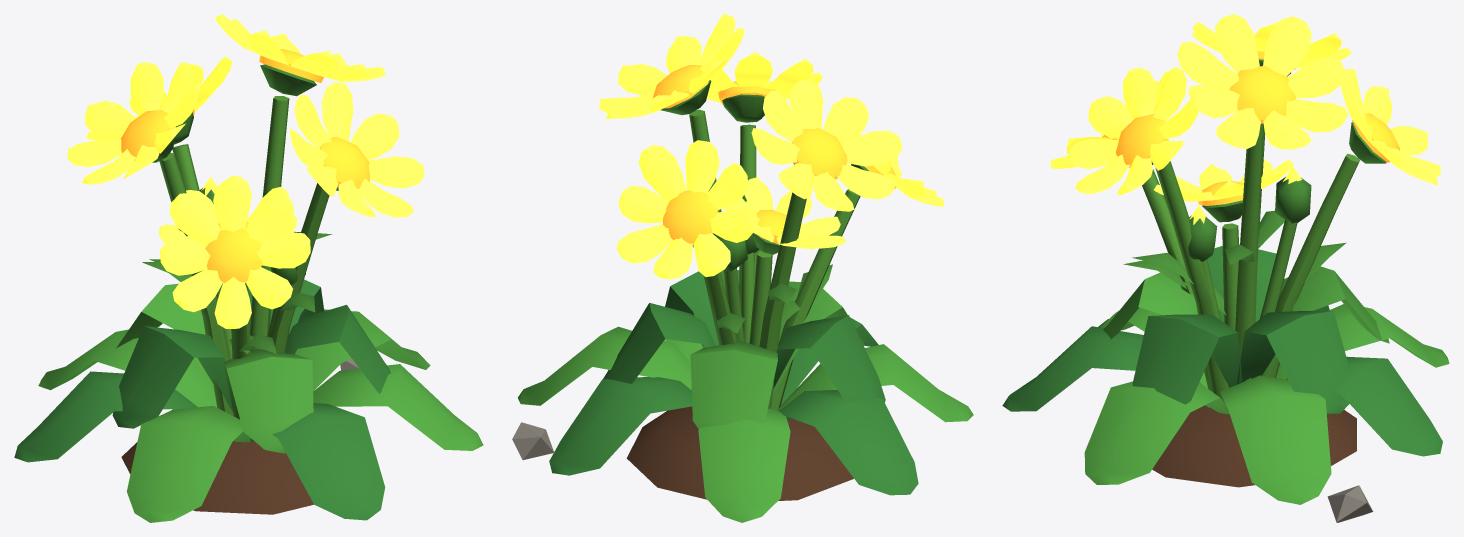
Rendered from node_sunpetal.glb.
3 renders of one model, left to right at view 1: azimuth 30°, elevation 25°; view 2: azimuth 150°, elevation 25°; view 3: azimuth 270°, elevation 25°, orthographic. The views are drawn at different scales.
Parts seen in each view (by area): view 1: Clump, Harvest; view 2: Clump, Harvest; view 3: Clump, Harvest.
Part boxes in pixels (box(x1,y1,x2,y2)): Clump: box(14, 177, 483, 522); Harvest: box(67, 14, 424, 419); Clump: box(512, 201, 973, 522); Harvest: box(599, 14, 944, 410); Clump: box(1002, 167, 1449, 522); Harvest: box(1050, 14, 1440, 401).
Size of what is drawn, in the model's own units: 1 by 1.02 by 0.97.
